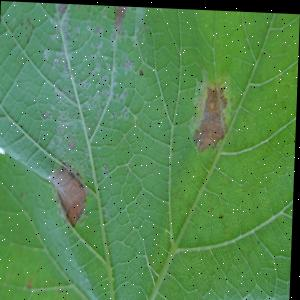Folha: (0, 0, 300, 300)
Fungo: (74, 23, 136, 120), (47, 161, 90, 227), (193, 77, 229, 151), (44, 2, 74, 86), (54, 106, 79, 157), (114, 4, 128, 34), (102, 163, 110, 175), (68, 137, 76, 149), (139, 68, 143, 75), (112, 110, 116, 117), (220, 212, 225, 217)
